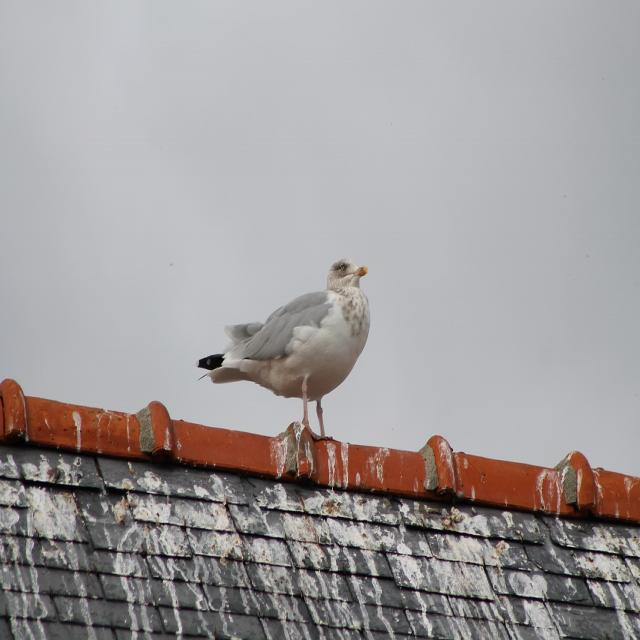bird: (194, 257, 373, 442)
